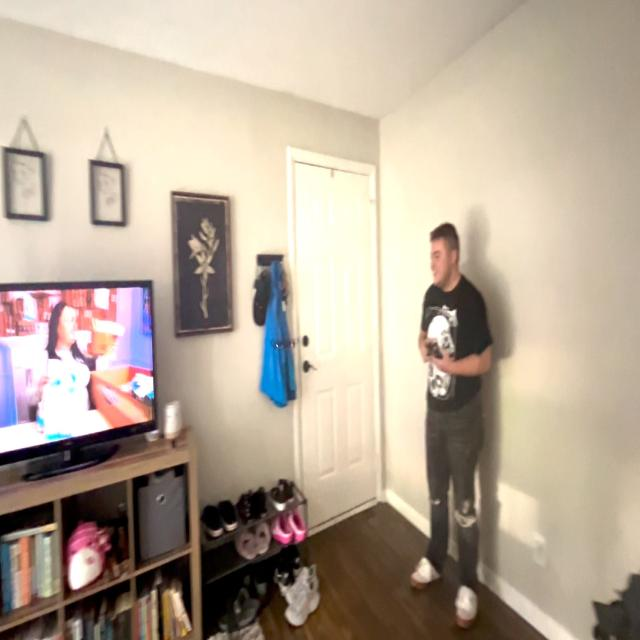drone: (266, 328, 306, 361)
